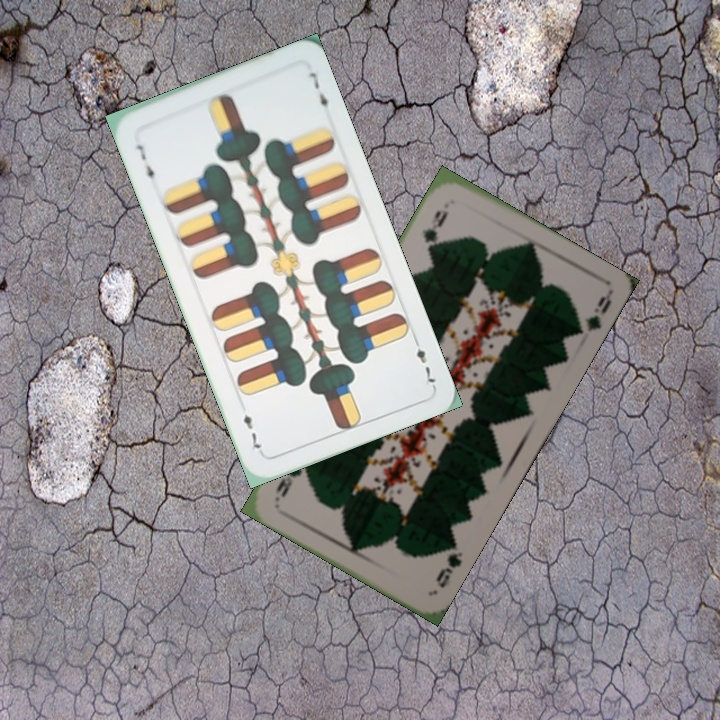E7: (409, 332, 438, 388), (132, 139, 157, 187)
G9: (419, 206, 451, 253), (432, 548, 465, 591)
